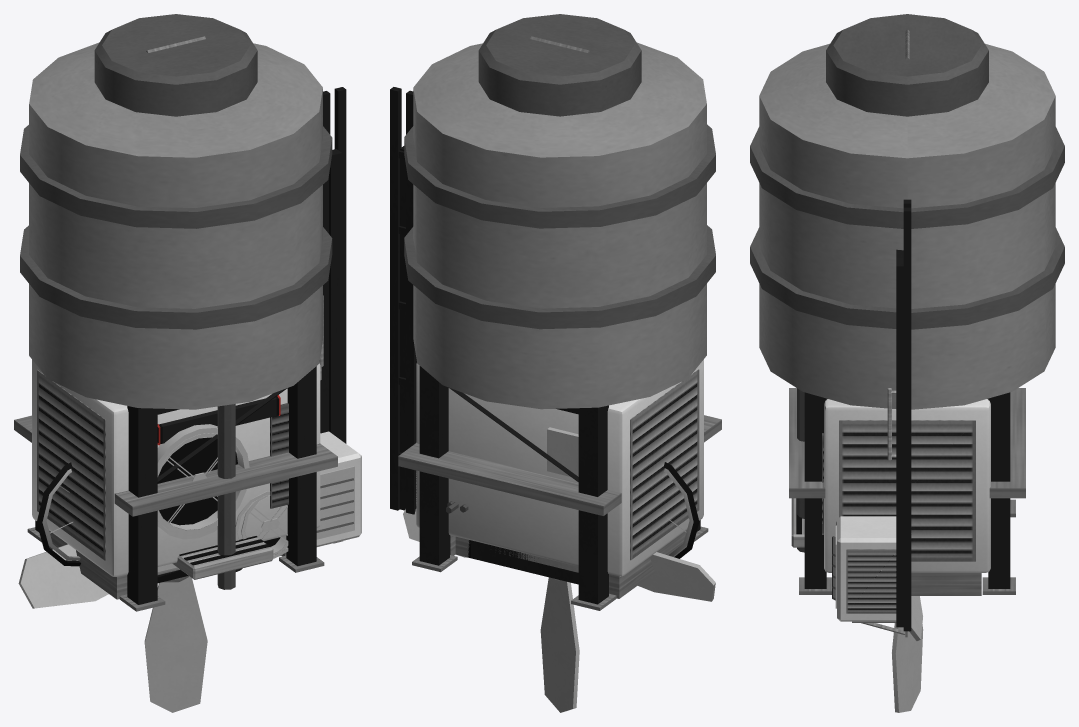
Rendered from shophouse-q0qhsTFG.glb.
3 renders of one model, left to right at view 1: azimuth 30°, elevation 25°; view 2: azimuth 150°, elevation 25°; view 3: azimuth 270°, elevation 25°, orthographic.
Parts seen in each view (by area): view 1: tank__body, hvac_a__body, fan__body, door_panel__body, ac_wide__body, barber_chair__body, arcade_cab__body, bicycle__body, hvac_c__body; view 2: tank__body, hvac_a__body, fan__body, door_panel__body, arcade_cab__body, bicycle__body; view 3: tank__body, hvac_a__body, ac_wide__body, door_panel__body, fan__body, barber_chair__body.
Boxes of the visible parts, x1=… form: tank__body: x1=14, y1=14, x2=346, y2=611; hvac_a__body: x1=32, y1=360, x2=320, y2=599; fan__body: x1=18, y1=544, x2=207, y2=712; door_panel__body: x1=319, y1=149, x2=341, y2=440; ac_wide__body: x1=235, y1=431, x2=361, y2=556; barber_chair__body: x1=172, y1=536, x2=273, y2=579; arcade_cab__body: x1=157, y1=395, x2=280, y2=577; bicycle__body: x1=36, y1=462, x2=80, y2=566; hvac_c__body: x1=157, y1=433, x2=246, y2=539; tank__body: x1=390, y1=14, x2=721, y2=610; hvac_a__body: x1=416, y1=359, x2=703, y2=598; fan__body: x1=403, y1=509, x2=715, y2=712; door_panel__body: x1=400, y1=146, x2=416, y2=510; arcade_cab__body: x1=467, y1=540, x2=578, y2=584; bicycle__body: x1=663, y1=462, x2=699, y2=558; tank__body: x1=750, y1=14, x2=1064, y2=631; hvac_a__body: x1=822, y1=399, x2=990, y2=595; ac_wide__body: x1=832, y1=516, x2=907, y2=637; door_panel__body: x1=887, y1=249, x2=903, y2=627; fan__body: x1=892, y1=596, x2=923, y2=712; barber_chair__body: x1=791, y1=498, x2=804, y2=547.
Bounding box in the file's own units: 2.02 × 3.98 × 1.7.
Materials: 3 (3 with a texture image).
